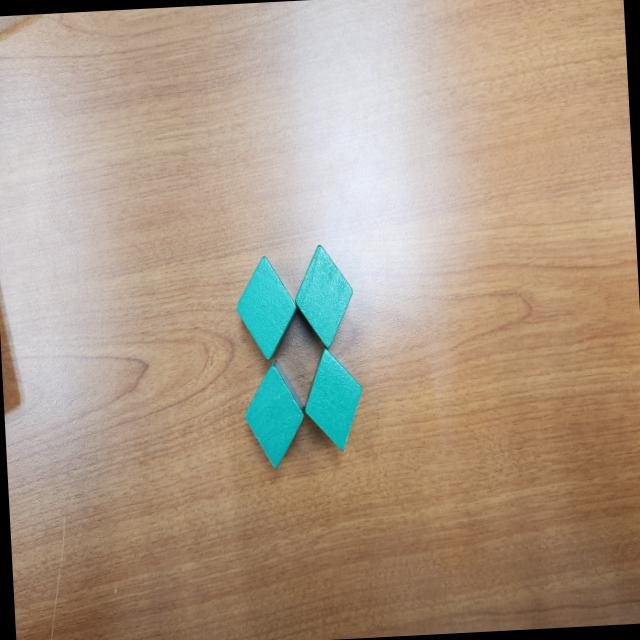green: (242, 358, 308, 468), (234, 255, 300, 364), (292, 244, 357, 352), (302, 348, 368, 454)
